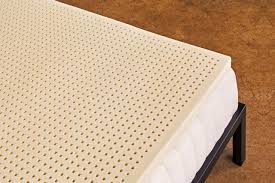bed-matress: (1, 1, 237, 183)
